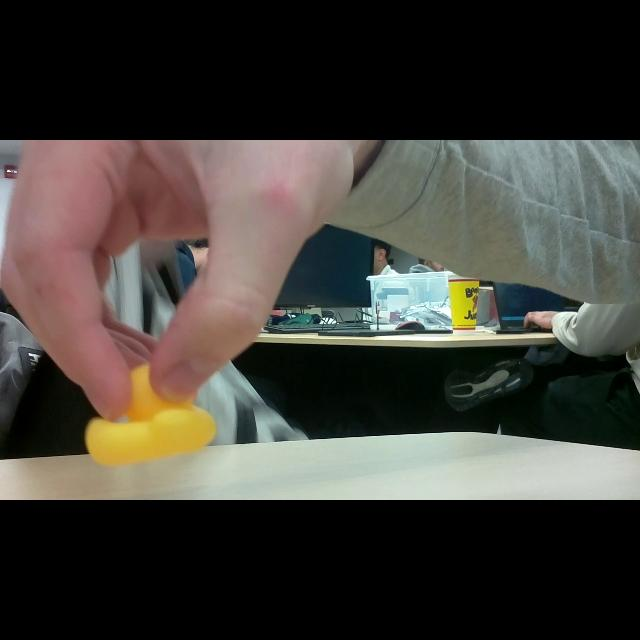duck_regular: (84, 364, 216, 469)
